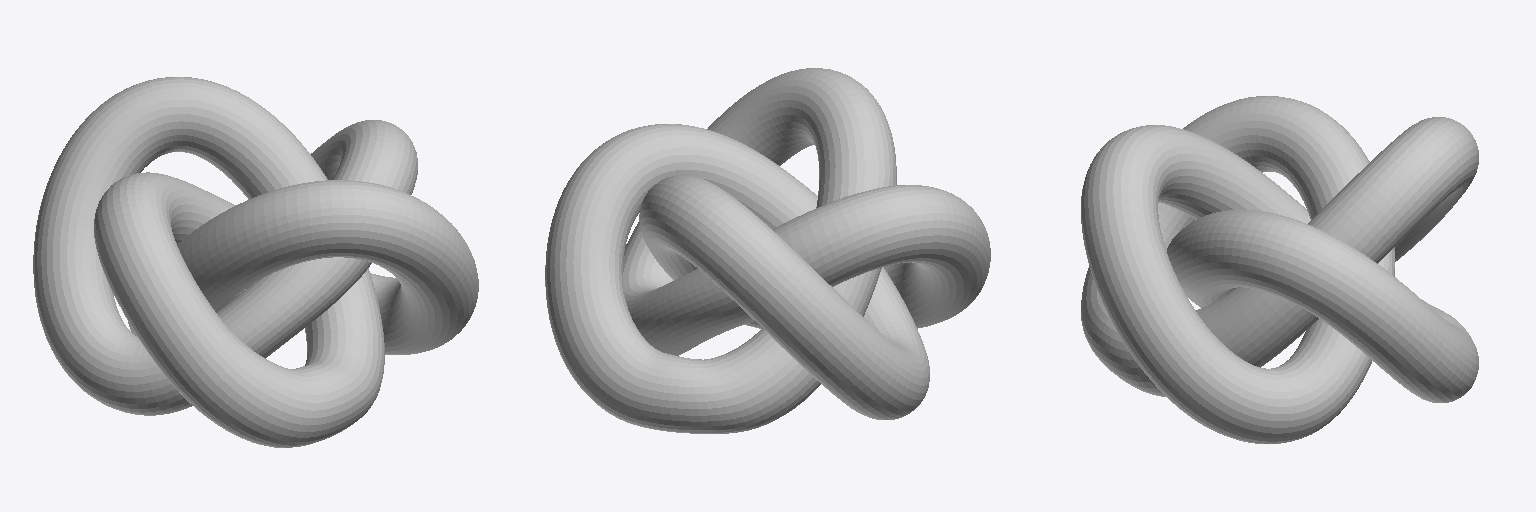
File: torus-knot.obj
3 renders of one model, left to right at view 1: azimuth 30°, elevation 25°; view 2: azimuth 150°, elevation 25°; view 3: azimuth 270°, elevation 25°, orthographic.
Visible parts, largest first — view 1: Fca75Fb15Fe94Fbdbe91F1Cb501Cce69; view 2: Fca75Fb15Fe94Fbdbe91F1Cb501Cce69; view 3: Fca75Fb15Fe94Fbdbe91F1Cb501Cce69.
Boxes of the visible parts, x1=… form: Fca75Fb15Fe94Fbdbe91F1Cb501Cce69: x1=33, y1=77, x2=478, y2=447; Fca75Fb15Fe94Fbdbe91F1Cb501Cce69: x1=545, y1=68, x2=990, y2=433; Fca75Fb15Fe94Fbdbe91F1Cb501Cce69: x1=1081, y1=96, x2=1478, y2=443.
Bounding box in the file's own units: 14.44 × 9.91 × 14.45.